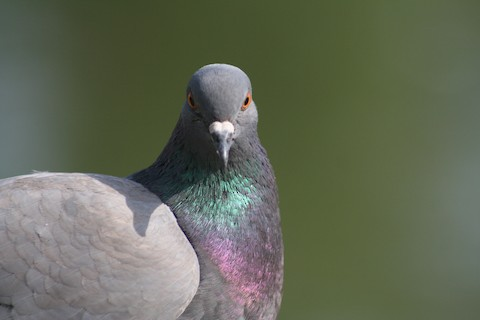pigeon: (7, 64, 289, 309)
